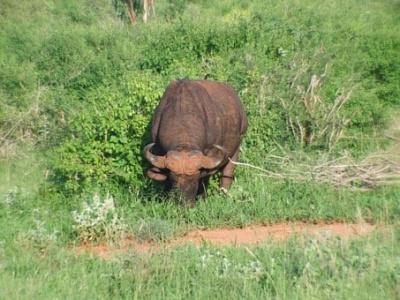buffalo: (142, 80, 250, 207)
